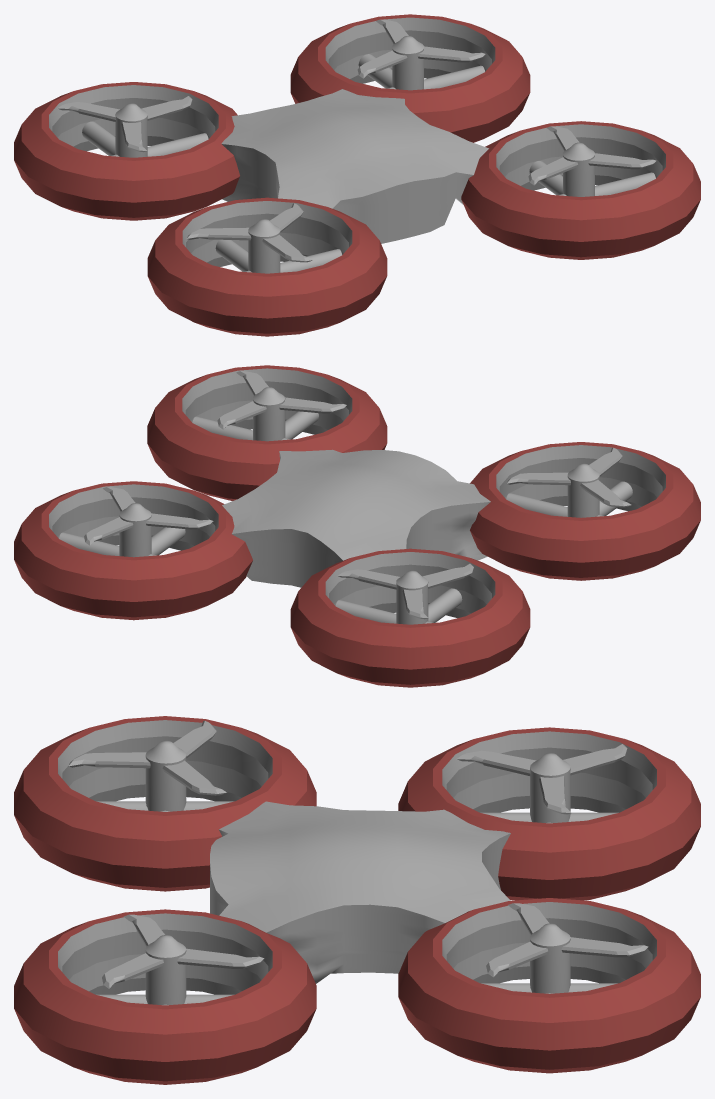
Rendered from LightDrone.fbx.
The picture shows the model from 3 angles, top to bottom: view 1: azimuth 30°, elevation 25°; view 2: azimuth 150°, elevation 25°; view 3: azimuth 270°, elevation 25°; orthographic projection. The views are drawn at different scales.
Visible parts, largest first — view 1: pTorus4 (×4), DroneBody, pCylinder2 (×4), pCylinder3 (×4), pCube4657 (×4), pCube18 (×3), pCylinder4 (×2), pCube4656 (×2); view 2: pTorus4 (×4), DroneBody, pCylinder2 (×4), pCylinder3 (×4), pCube4656 (×4), pCube4657 (×3), pCylinder4 (×3), pCube18 (×2); view 3: pTorus4 (×4), DroneBody, pCylinder2 (×4), pCube4656 (×4), pCube18 (×4), pCube4657 (×4), pCylinder4 (×4).
Part boxes in pixels (x1,y1,x2,y2): pTorus4 (×4): (14,14,700,336); DroneBody: (221,89,488,243); pCylinder2 (×4): (115,36,594,273); pCylinder3 (×4): (111,65,655,272); pCube4657 (×4): (141,50,578,262); pCube18 (×3): (57,46,656,169); pCylinder4 (×2): (82,121,248,271); pCube4656 (×2): (121,122,251,240); pTorus4 (×4): (14,365,700,687); DroneBody: (222,449,490,587); pCylinder2 (×4): (119,387,599,624); pCylinder3 (×4): (59,416,603,623); pCube4656 (×4): (84,401,631,588); pCube4657 (×3): (146,397,400,589); pCylinder4 (×3): (151,411,462,622); pCube18 (×2): (402,472,570,619); pTorus4 (×4): (14,716,700,1084); DroneBody: (210,801,510,983); pCylinder2 (×4): (145,740,570,1004); pCube4656 (×4): (173,720,648,968); pCube18 (×4): (102,744,627,988); pCube4657 (×4): (68,752,571,946); pCylinder4 (×4): (96,801,618,1003).
Size of the model in its own units: 4.48 by 0.6727 by 4.02.
